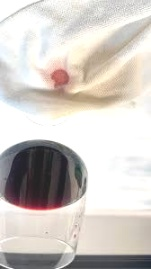wine: (49, 62, 73, 93)
